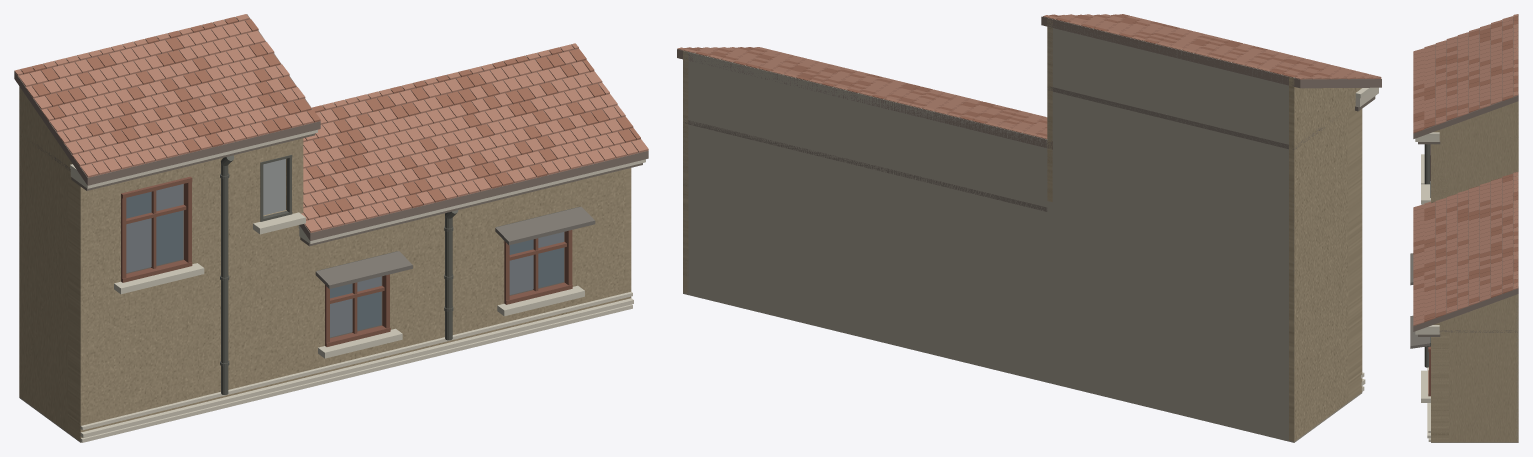
File: taiyuan-lane-50.glb
3 views of the same model, side by side, from view 1: azimuth 30°, elevation 25°; view 2: azimuth 150°, elevation 25°; view 3: azimuth 270°, elevation 25° (orthographic). The views are drawn at different scales.
Parts seen in each view (by area): view 1: 太原路50弄并立式住宅东立面落檐双窗; view 2: 太原路50弄并立式住宅东立面落檐双窗; view 3: 太原路50弄并立式住宅东立面落檐双窗.
Boxes of the visible parts, x1,y1,x2,y2 form: 太原路50弄并立式住宅东立面落檐双窗: [14, 14, 648, 442]; 太原路50弄并立式住宅东立面落檐双窗: [677, 14, 1381, 442]; 太原路50弄并立式住宅东立面落檐双窗: [1410, 14, 1518, 442].
Size of the model in its own units: 7.93 by 4.44 by 1.85.
14 materials, 1 textured.
